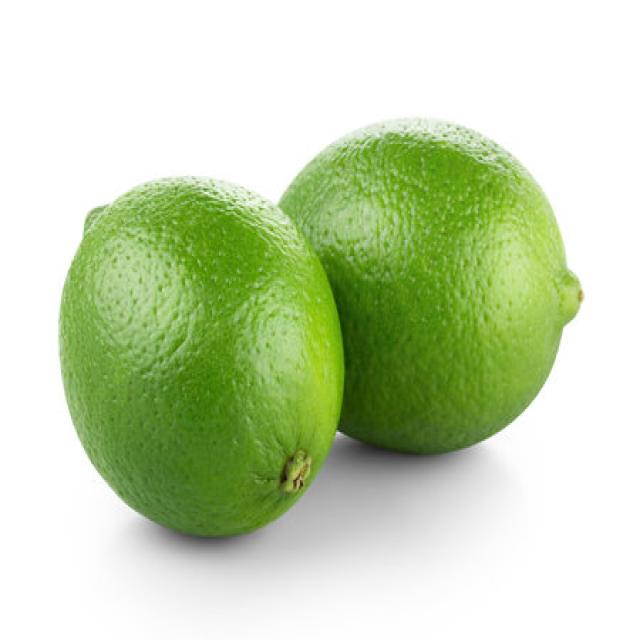Lemon: (57, 172, 345, 537), (276, 114, 583, 455)
